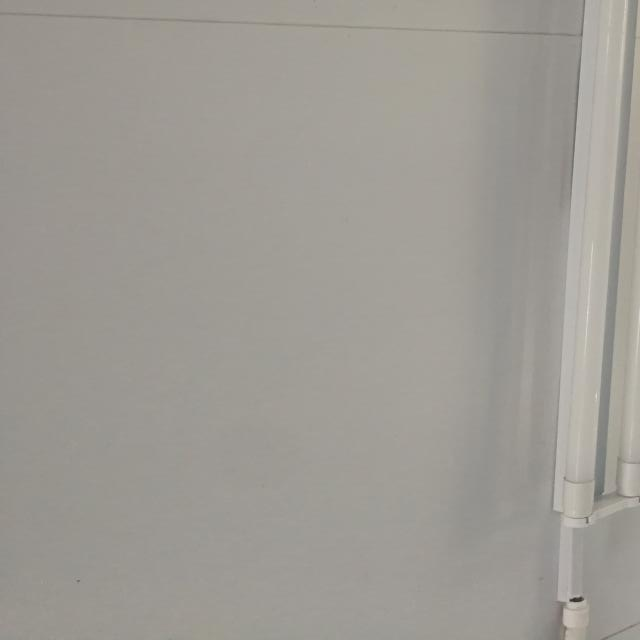fluorescent tube: (518, 0, 640, 545)
